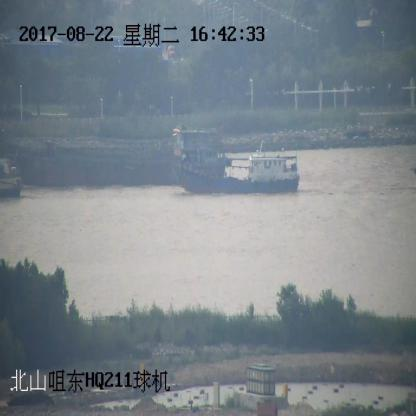Fishing Boat: (174, 147, 300, 195)
